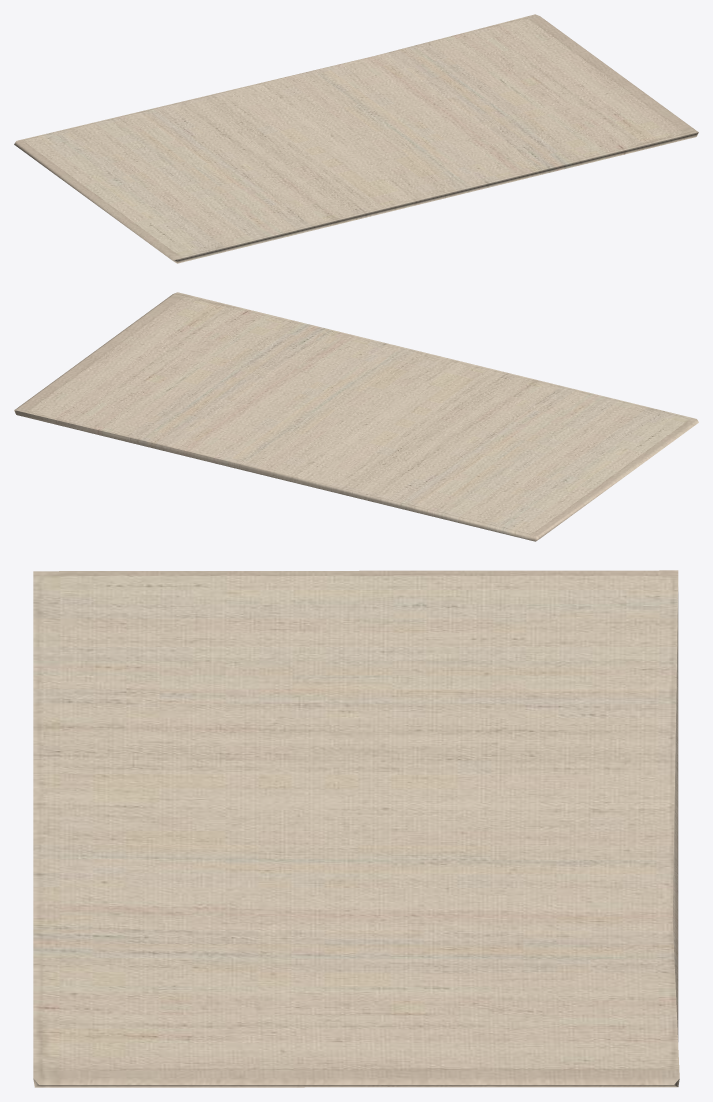
The model's file is 12 - TIDTABELL Rug, flatwoven - beige 80x150 cm.glb.
3 views of the same model, one above another, from view 1: azimuth 30°, elevation 25°; view 2: azimuth 150°, elevation 25°; view 3: azimuth 270°, elevation 25° (orthographic). The views are drawn at different scales.
Visible parts, largest first — view 1: ASY_ART_10561868_S01_NV01; view 2: ASY_ART_10561868_S01_NV01; view 3: ASY_ART_10561868_S01_NV01.
Boxes of the visible parts, x1=… form: ASY_ART_10561868_S01_NV01: x1=14, y1=14, x2=698, y2=263; ASY_ART_10561868_S01_NV01: x1=14, y1=292, x2=698, y2=541; ASY_ART_10561868_S01_NV01: x1=33, y1=570, x2=679, y2=1087.
Bounding box in the file's own units: 1.51 × 0.014 × 0.8008.
1 material, 1 textured.
